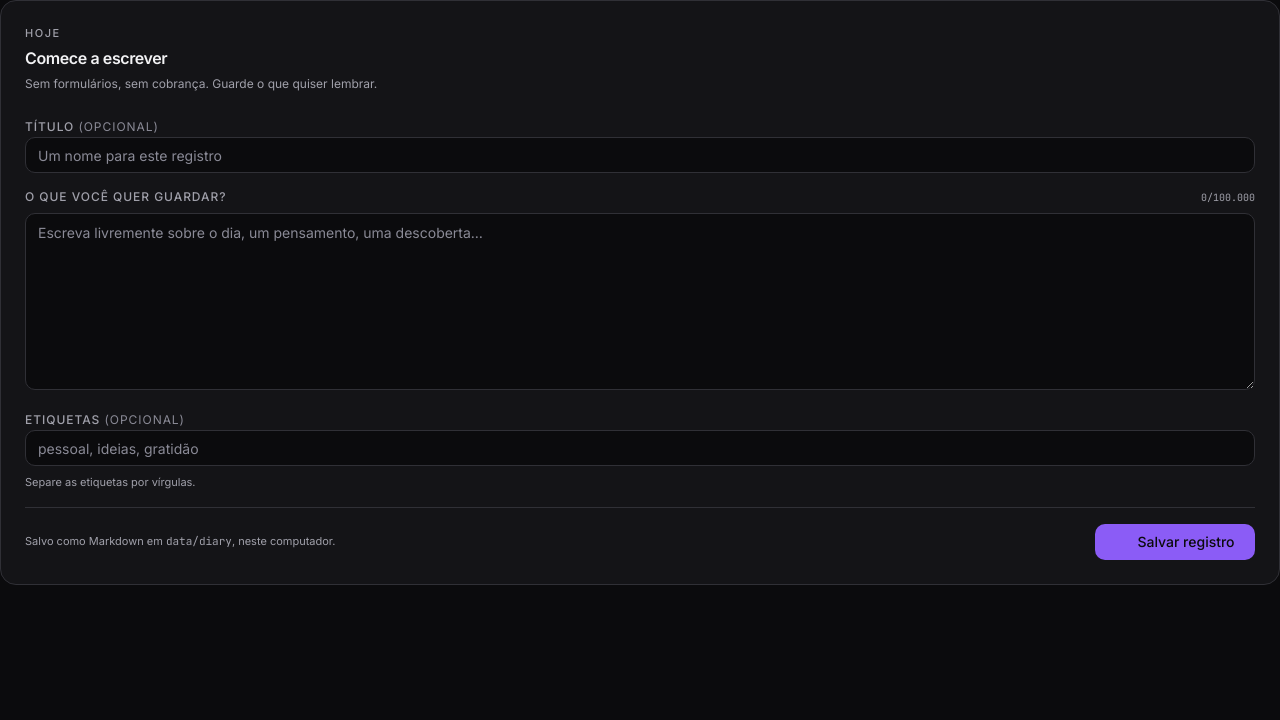
DiaryComposer › bloqueia registro vazio
The image size is (1280, 720).
Click the button "Salvar registro" at (1175,542), box [1095,524,1255,560]
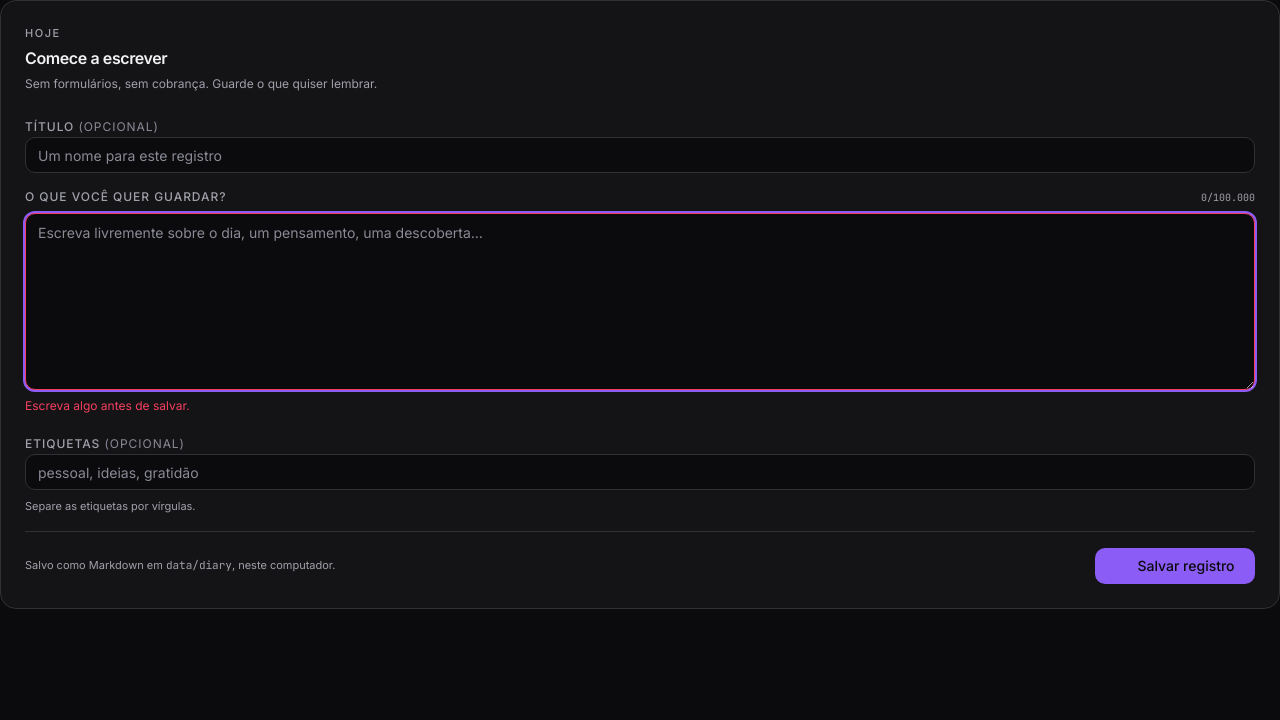
Expected: the text "Escreva algo antes de salvar." is shown, [25,398,190,413]
